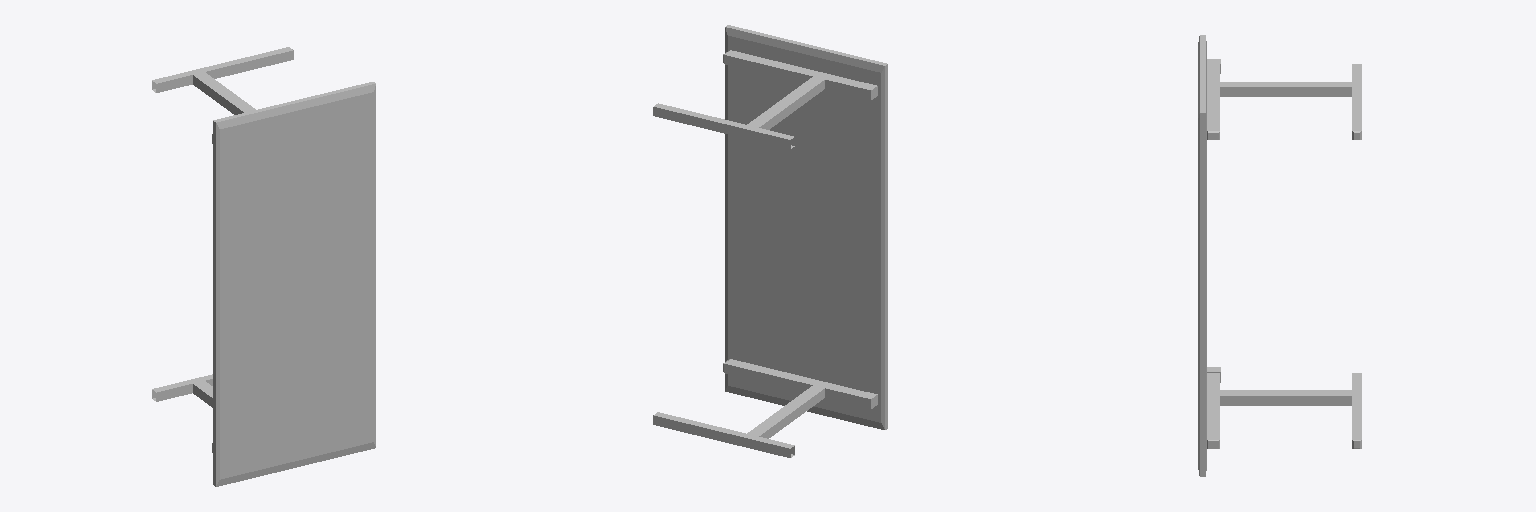
The model's file is table.obj.
3 views of the same model, side by side, from view 1: azimuth 30°, elevation 25°; view 2: azimuth 150°, elevation 25°; view 3: azimuth 270°, elevation 25° (orthographic).
Parts seen in each view (by area): view 1: table; view 2: table; view 3: table.
Part boxes in pixels (x1,y1,x2,y2): table: (152, 47, 375, 486); table: (653, 25, 887, 457); table: (1198, 35, 1361, 476).
Size of the model in its own units: 1.01 by 2.2 by 0.8911.